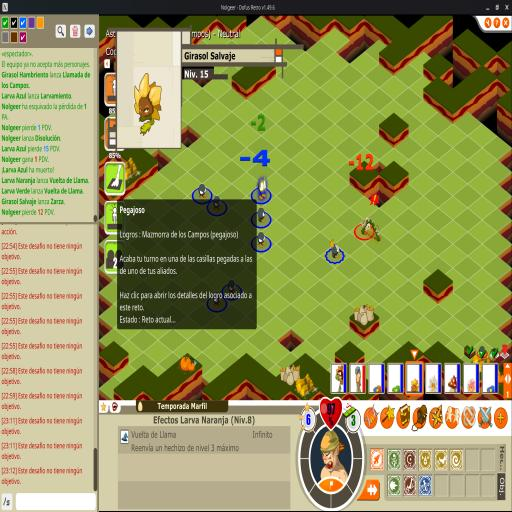Enemigos: (257, 177, 268, 200), (330, 239, 340, 259), (212, 292, 223, 308), (228, 280, 238, 297), (198, 184, 208, 200), (213, 196, 223, 212), (257, 208, 267, 224), (257, 232, 267, 248)
Personaje: (360, 215, 382, 243)
